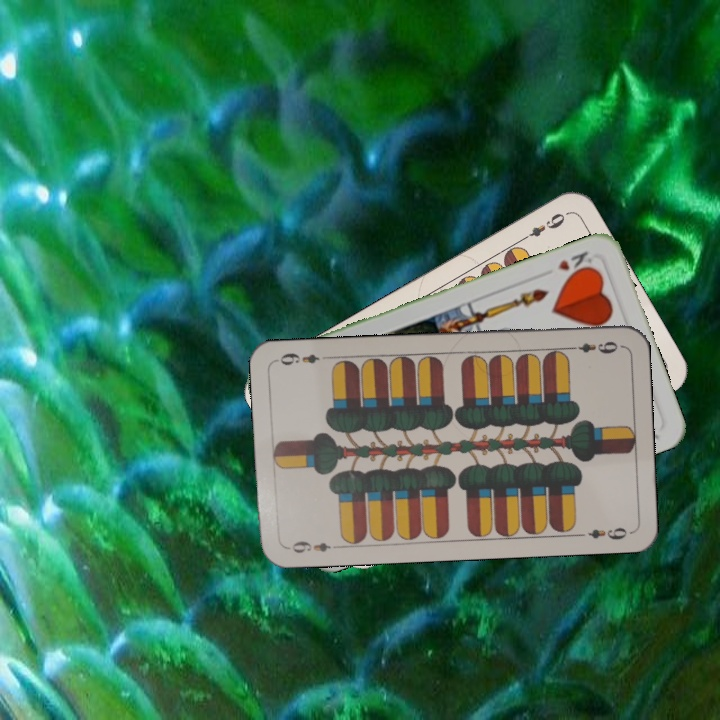E9: (516, 208, 570, 244), (283, 537, 342, 556), (564, 337, 620, 356)
HK: (553, 247, 596, 280)
